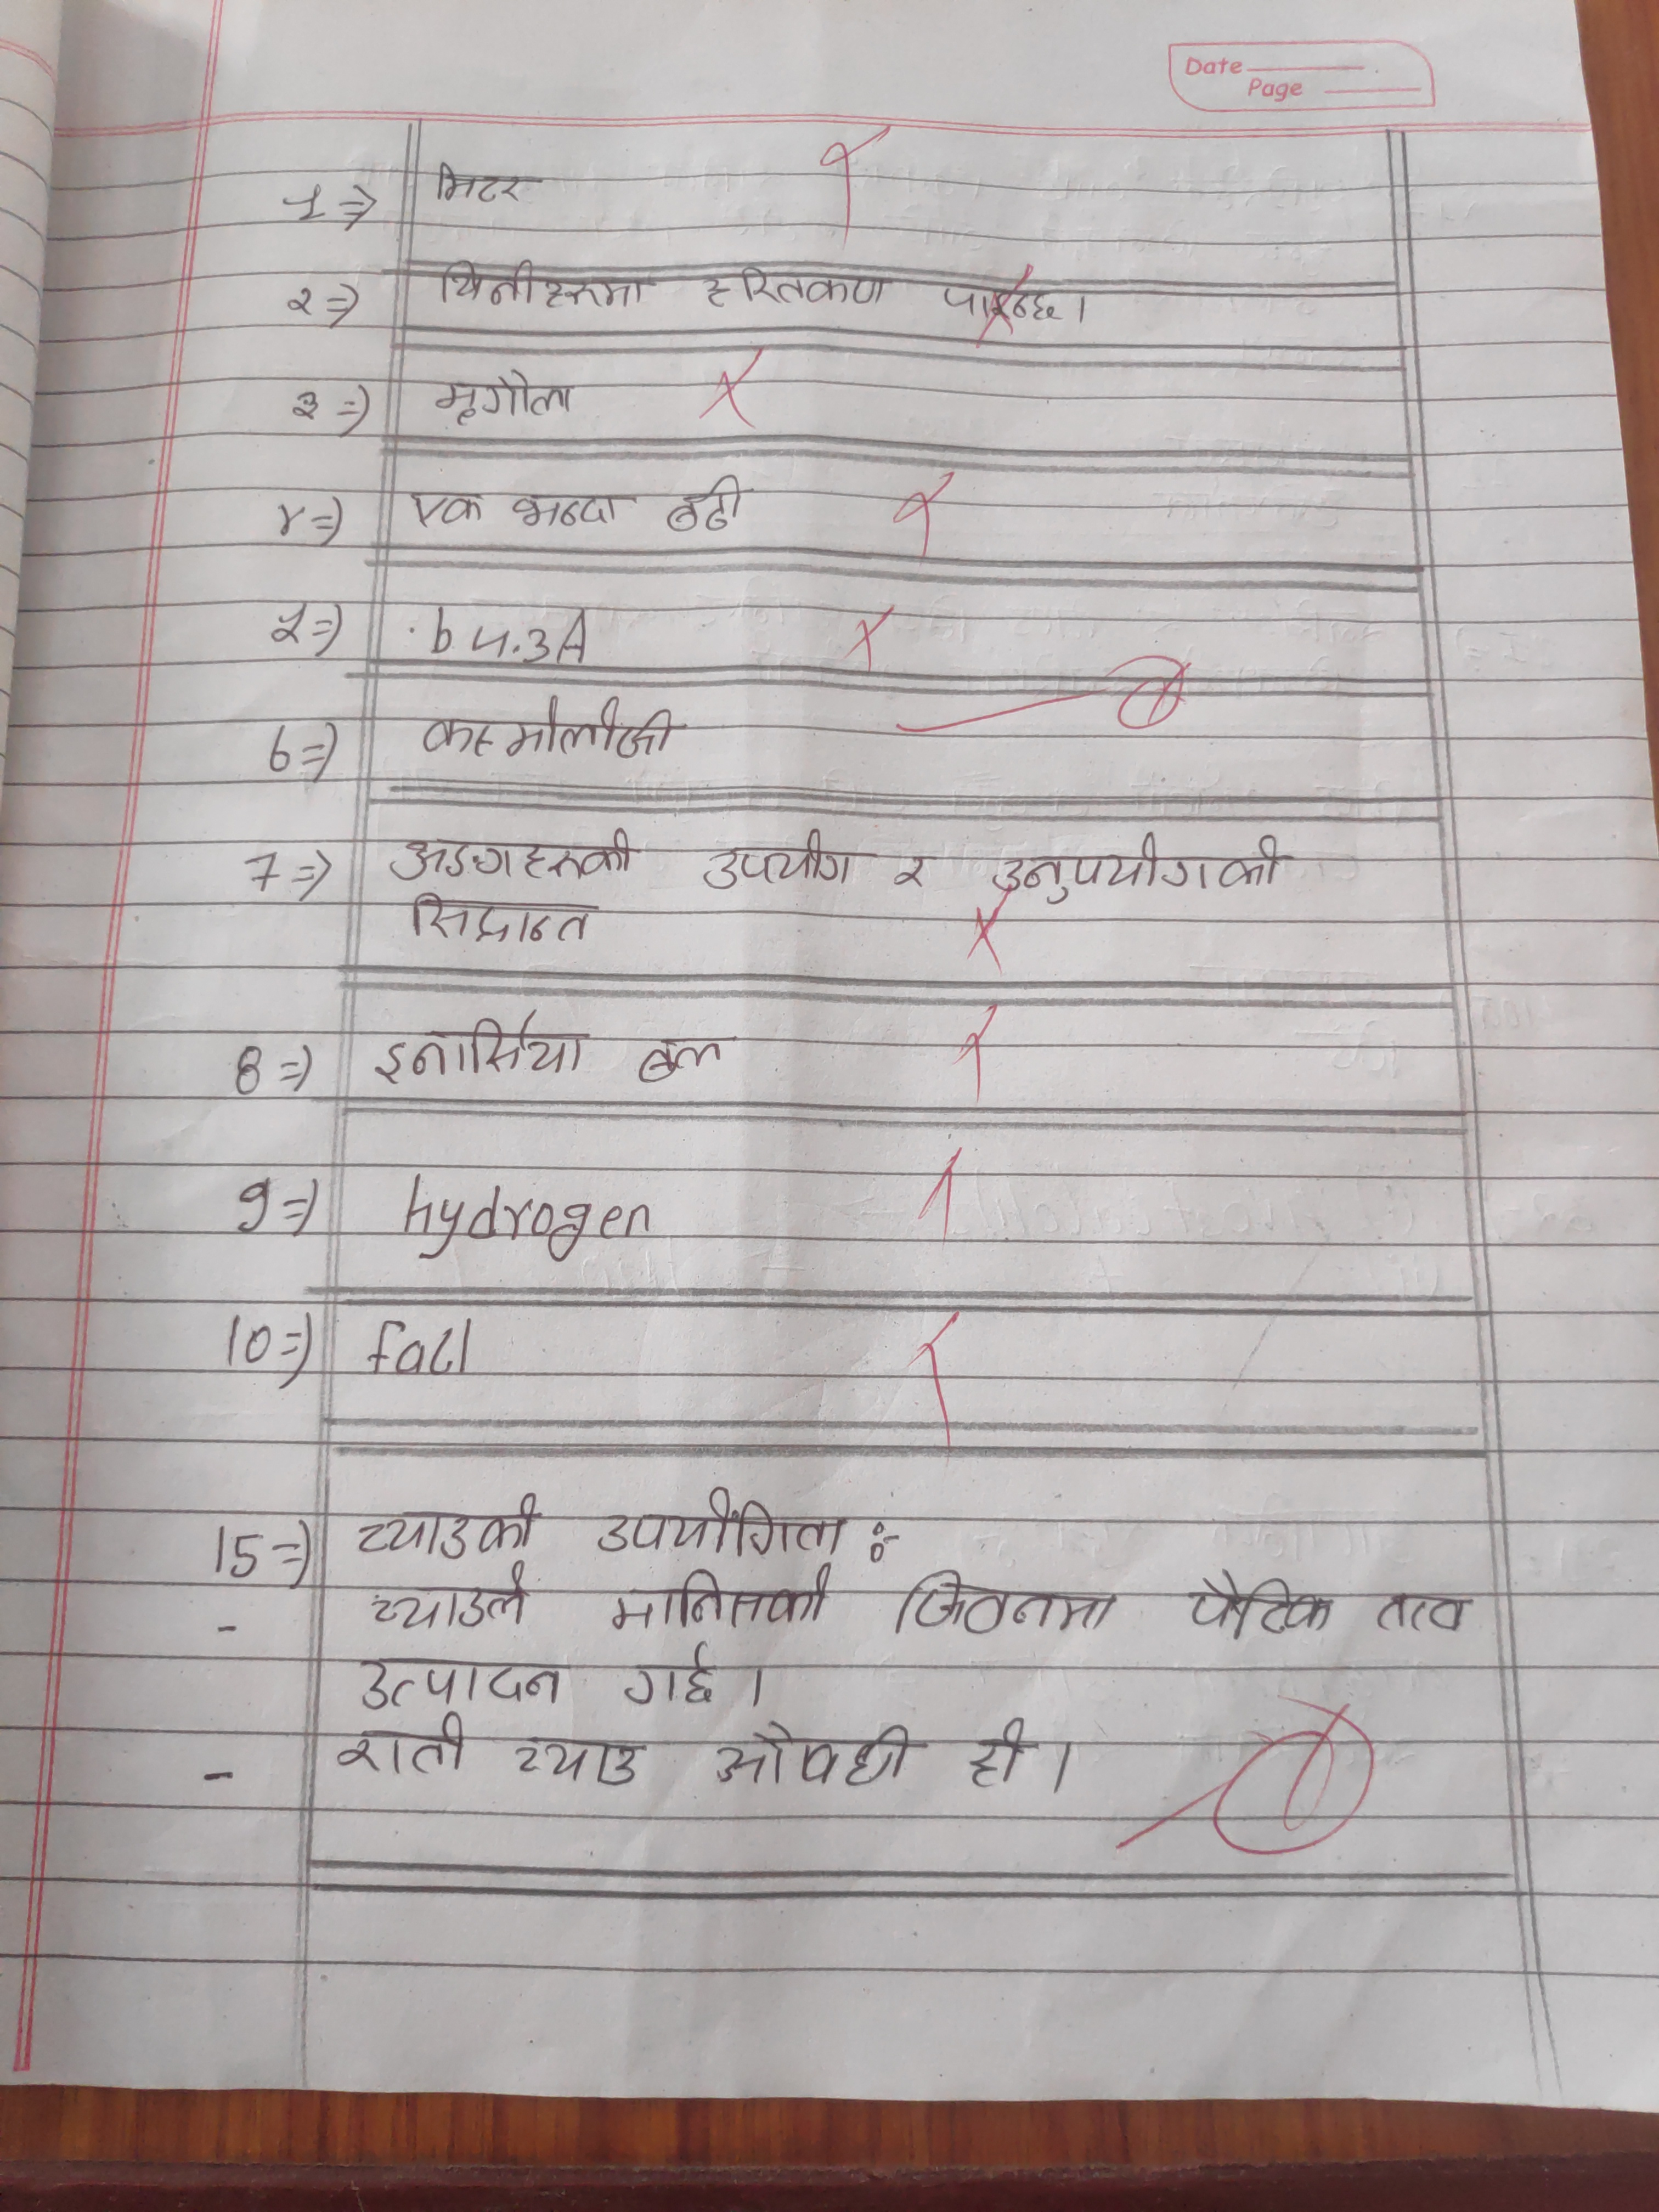text: (990, 833, 1290, 902), (418, 686, 676, 765), (598, 1480, 850, 1559), (608, 1559, 830, 1637), (371, 1007, 587, 1085), (894, 1568, 1115, 1635), (706, 1721, 915, 1791), (390, 829, 636, 887), (352, 1489, 547, 1561), (354, 1653, 568, 1710), (1187, 1561, 1335, 1641), (369, 1561, 533, 1632), (439, 256, 647, 312), (406, 890, 598, 949), (704, 827, 856, 895), (331, 1709, 469, 1780), (706, 265, 892, 312), (434, 371, 579, 428), (505, 1733, 643, 1791), (622, 1639, 718, 1709), (934, 282, 1058, 329), (636, 1029, 737, 1087), (509, 486, 631, 531), (967, 1716, 1032, 1792), (666, 470, 744, 533), (429, 160, 530, 207), (1370, 1588, 1471, 1634), (408, 481, 488, 531), (892, 850, 936, 888)
